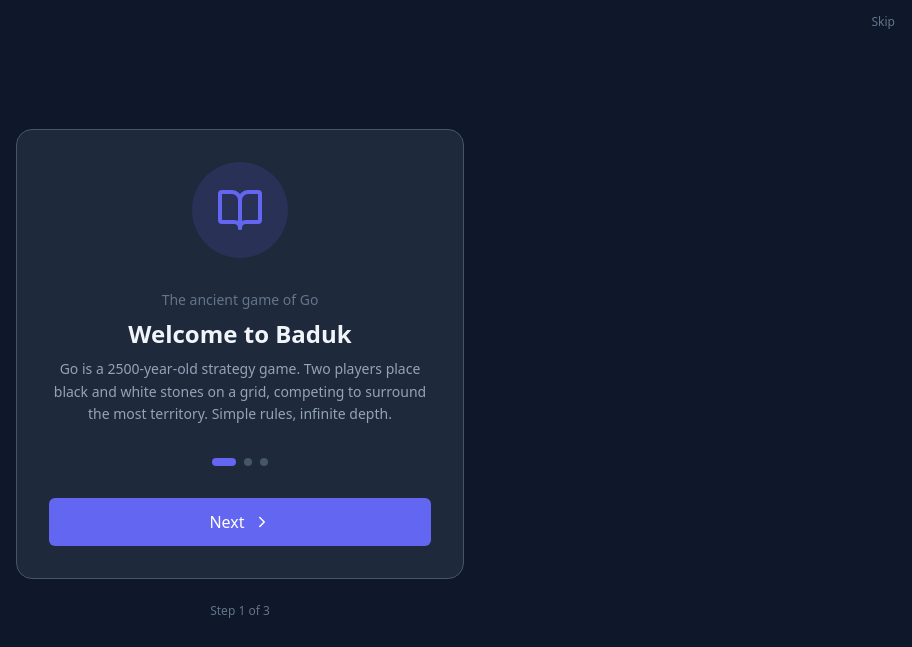
Test: OnboardingScreen › advances through all 3 steps
Expected: the heading "Welcome to Baduk" is shown, [128, 317, 352, 350]
Click the button with test id "onboarding-next-button" at (240, 522), box [49, 498, 431, 546]
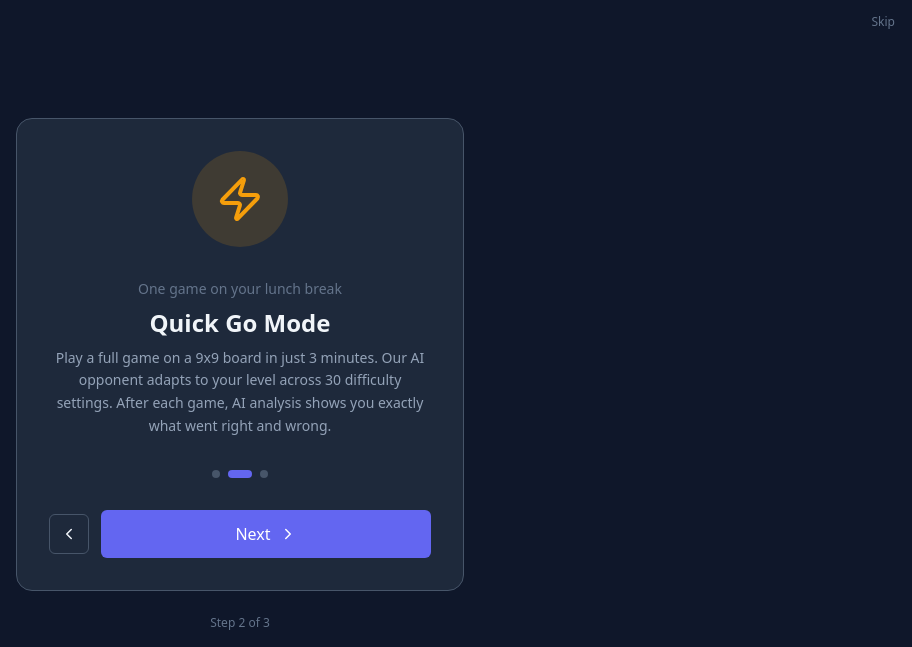
Now the heading "Quick Go Mode" is shown, box [150, 306, 330, 338]
Click the button with test id "onboarding-next-button" at (266, 534), box [101, 510, 431, 558]
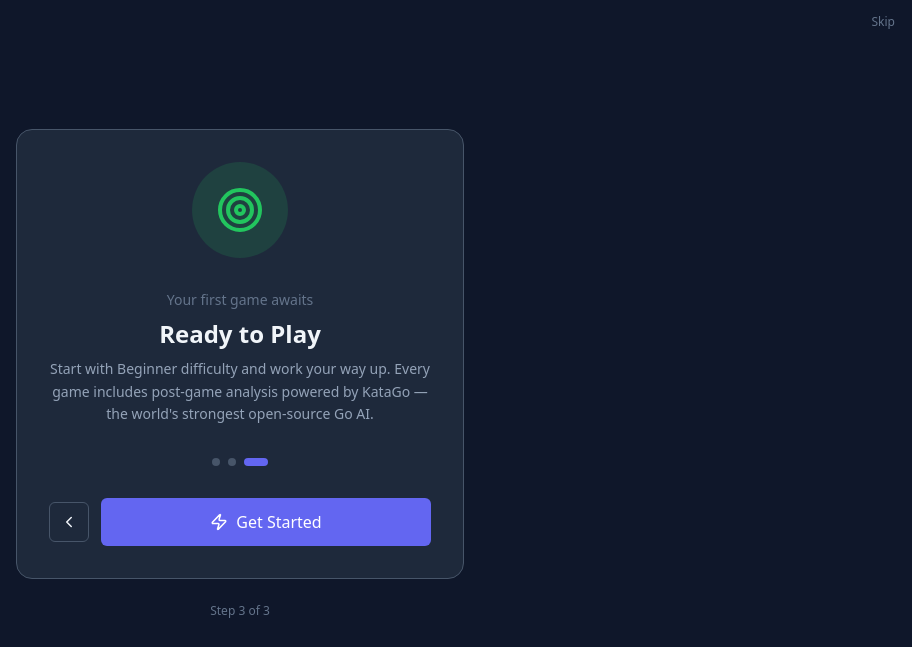
Now the heading "Ready to Play" is shown, box [159, 317, 321, 350]
